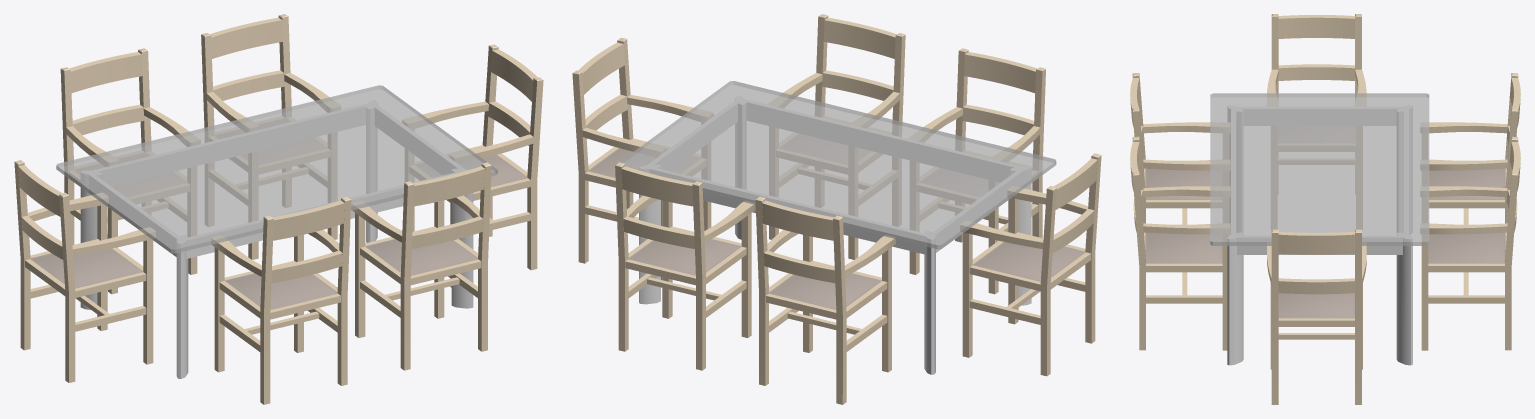
Rendered from Table Chairs.gltf.
3 renders of one model, left to right at view 1: azimuth 30°, elevation 25°; view 2: azimuth 150°, elevation 25°; view 3: azimuth 270°, elevation 25°, orthographic. The views are drawn at different scales.
Parts seen in each view (by area): view 1: node-0; view 2: node-0; view 3: node-0.
Part boxes in pixels (x1,y1,x2,y2): node-0: [14, 14, 543, 404]; node-0: [572, 14, 1101, 404]; node-0: [1130, 14, 1520, 404].
Bounding box in the file's own units: 110 × 40.85 × 82.34.
